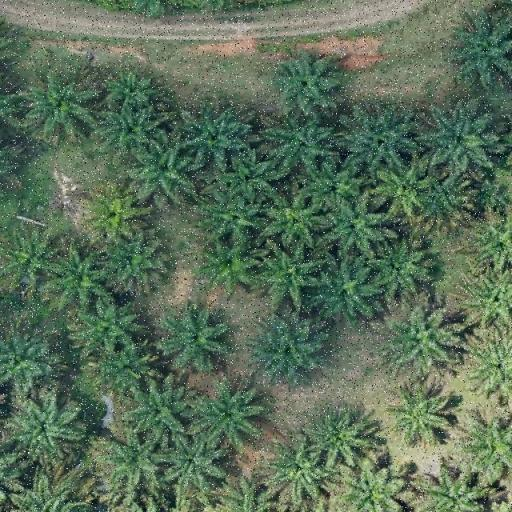Ganoderma: (90, 195, 134, 236)
